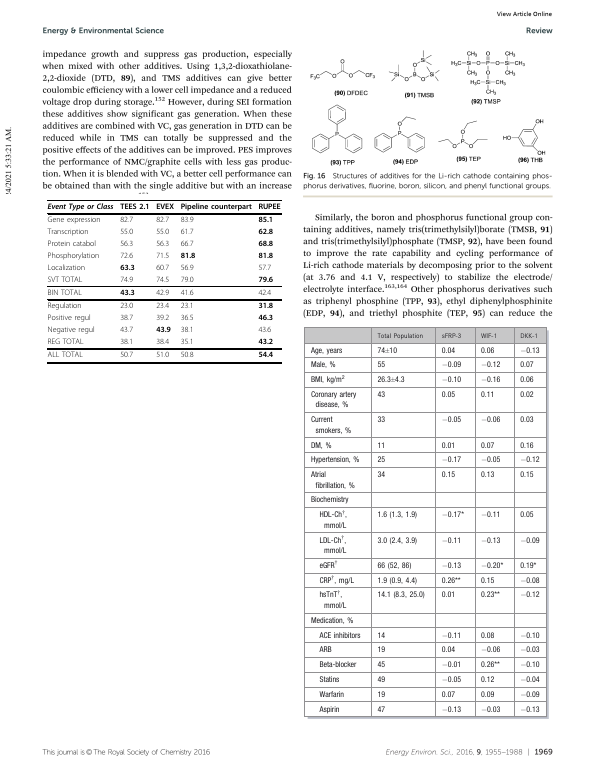bordered: (304, 325, 546, 716)
borderless: (46, 199, 281, 362)
cell: (309, 391, 357, 410), (309, 471, 355, 490), (309, 416, 352, 436), (180, 203, 253, 212), (318, 509, 347, 531), (318, 535, 347, 556), (318, 590, 347, 611), (47, 203, 114, 212), (47, 216, 101, 226), (47, 252, 100, 262), (47, 240, 97, 250), (47, 326, 96, 336), (309, 456, 360, 465), (47, 314, 92, 324), (376, 591, 425, 600), (47, 228, 89, 238), (309, 616, 354, 625), (309, 374, 345, 385), (47, 264, 86, 274), (318, 631, 361, 640), (376, 511, 418, 520), (376, 536, 418, 545), (376, 576, 418, 585), (376, 333, 423, 341), (47, 338, 84, 348), (309, 496, 349, 505), (376, 561, 412, 571), (318, 575, 354, 585), (47, 289, 83, 299), (47, 302, 83, 312), (318, 661, 357, 670), (47, 352, 84, 361), (47, 276, 83, 285), (309, 346, 343, 355), (119, 203, 150, 212), (376, 376, 405, 385), (479, 561, 504, 571), (309, 361, 336, 370), (318, 690, 345, 699), (257, 203, 282, 212), (318, 560, 338, 571), (440, 561, 462, 571), (318, 675, 340, 685), (440, 675, 462, 685), (440, 511, 464, 520), (519, 675, 540, 685), (309, 441, 332, 450), (376, 346, 398, 355), (440, 361, 462, 370), (479, 361, 501, 370), (440, 376, 462, 385), (479, 376, 501, 385), (440, 416, 462, 425), (479, 416, 501, 425), (440, 456, 462, 465), (479, 456, 501, 465), (479, 511, 501, 520), (440, 536, 462, 545), (479, 536, 501, 545), (440, 631, 462, 640), (479, 646, 501, 655), (440, 661, 462, 670), (318, 705, 340, 714), (440, 705, 462, 714), (479, 705, 501, 714), (519, 346, 540, 355), (519, 456, 540, 465), (519, 536, 540, 545), (440, 576, 461, 585), (519, 576, 540, 585), (479, 591, 500, 600), (519, 591, 540, 600), (519, 631, 540, 640), (519, 646, 540, 655), (479, 661, 500, 670), (519, 661, 540, 670), (519, 690, 540, 699), (519, 705, 540, 714), (519, 561, 537, 571), (155, 203, 175, 212), (440, 333, 462, 341), (257, 302, 274, 312), (257, 314, 274, 324), (155, 326, 172, 336), (257, 338, 274, 348), (479, 675, 495, 685), (257, 216, 274, 225), (257, 228, 274, 237), (257, 240, 274, 249), (257, 252, 274, 261), (119, 264, 136, 273), (257, 276, 274, 285), (119, 289, 136, 298), (257, 352, 274, 361), (519, 333, 538, 341), (119, 216, 134, 226), (155, 216, 170, 226), (119, 228, 134, 238), (155, 228, 170, 238), (119, 240, 134, 250), (155, 240, 170, 250), (119, 252, 134, 262), (155, 252, 170, 262), (155, 264, 170, 274), (257, 264, 272, 274), (155, 289, 170, 299), (257, 289, 272, 299), (119, 302, 134, 312), (155, 302, 170, 312), (119, 314, 134, 324), (155, 314, 170, 324), (119, 326, 134, 336), (257, 326, 272, 336), (119, 338, 134, 348), (155, 338, 170, 348), (479, 333, 497, 341), (440, 346, 456, 355), (479, 346, 495, 355), (440, 391, 456, 400), (479, 391, 495, 400), (440, 441, 456, 450), (479, 441, 495, 450), (440, 471, 456, 480), (479, 471, 495, 480), (479, 576, 495, 585), (440, 591, 456, 600), (479, 631, 495, 640), (440, 646, 456, 655), (440, 690, 456, 699), (479, 690, 495, 699), (180, 252, 196, 261), (180, 216, 194, 226), (180, 228, 194, 238), (180, 240, 194, 250), (180, 264, 194, 274), (180, 289, 194, 299), (180, 302, 194, 312), (180, 314, 194, 324), (180, 326, 194, 336), (180, 338, 194, 348), (519, 361, 534, 370), (519, 376, 534, 385), (519, 391, 534, 400), (519, 416, 534, 425), (519, 441, 534, 450), (519, 471, 534, 480), (519, 511, 534, 520), (119, 276, 134, 285), (155, 276, 170, 285), (119, 352, 134, 361), (155, 352, 170, 361), (318, 646, 332, 655), (180, 276, 194, 285), (180, 352, 194, 361), (376, 675, 386, 685), (376, 361, 386, 370), (376, 391, 386, 400), (376, 416, 386, 425), (376, 441, 386, 450), (376, 456, 386, 465), (376, 471, 386, 480), (376, 631, 386, 640), (376, 646, 386, 655), (376, 661, 386, 670), (376, 690, 386, 699), (376, 705, 386, 714)
